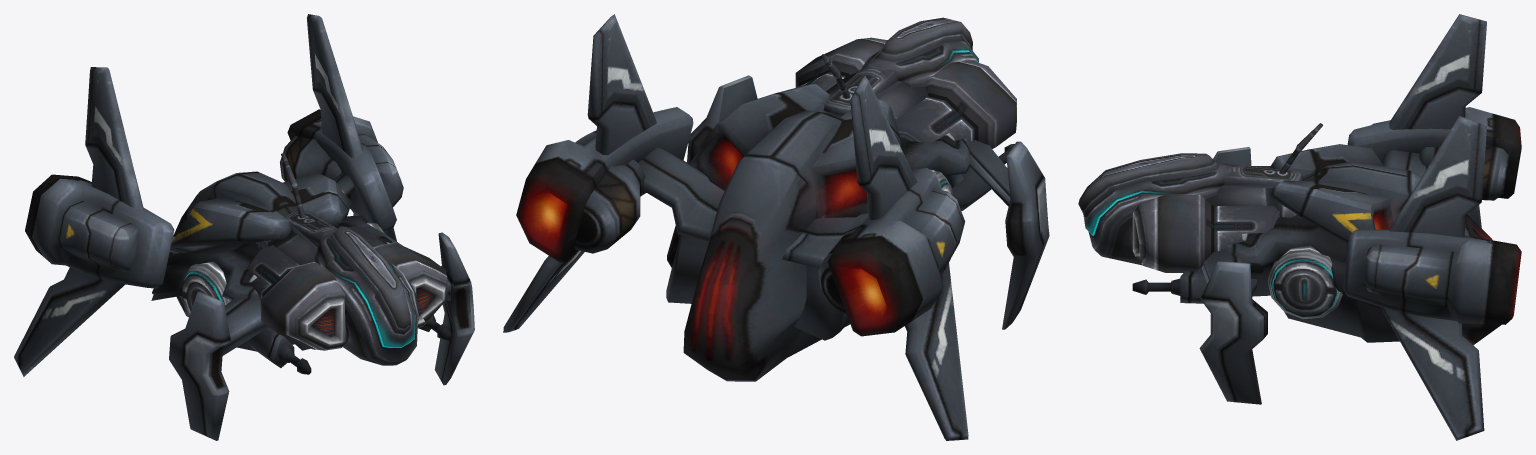
The model's file is Courier.glb.
The picture shows the model from 3 angles, left to right: view 1: azimuth 30°, elevation 25°; view 2: azimuth 150°, elevation 25°; view 3: azimuth 270°, elevation 25°; orthographic projection. The views are drawn at different scales.
Parts seen in each view (by area): view 1: Mesh, Mesh.001; view 2: Mesh, Mesh.001; view 3: Mesh, Mesh.001.
Boxes of the visible parts, x1,y1,x2,y2 form: Mesh: (14,14,474,440); Mesh.001: (182,153,447,365); Mesh: (503,14,1049,440); Mesh.001: (795,17,1016,195); Mesh: (1132,14,1521,440); Mesh.001: (1078,123,1342,319).
Size of the model in its own units: 1.96 by 1.4 by 1.99.
Materials: 2 (2 with a texture image).
